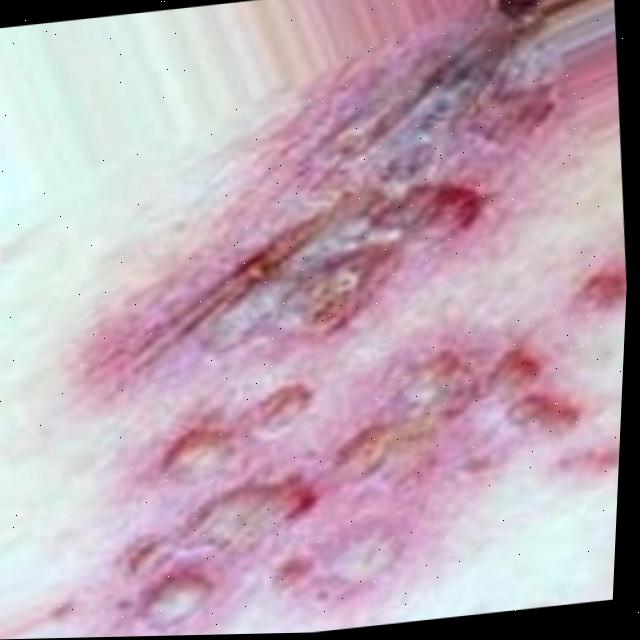Shingles: (50, 0, 640, 638)
